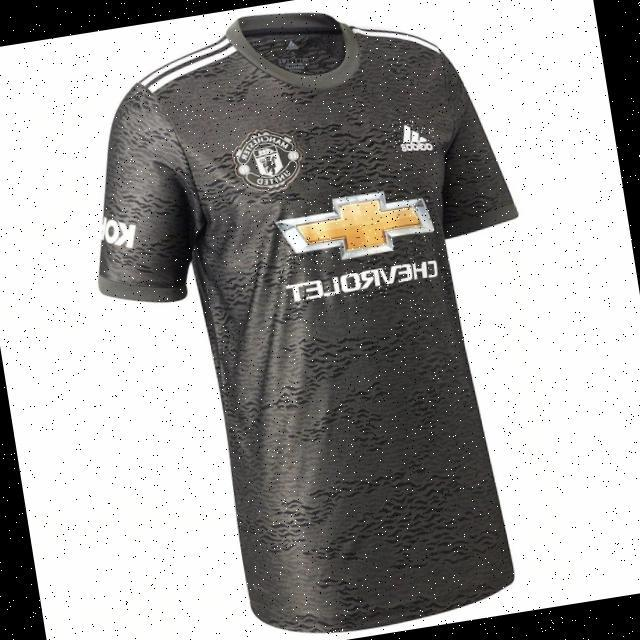Adidas: (390, 116, 437, 159)
Chevrolet: (269, 180, 445, 311)
